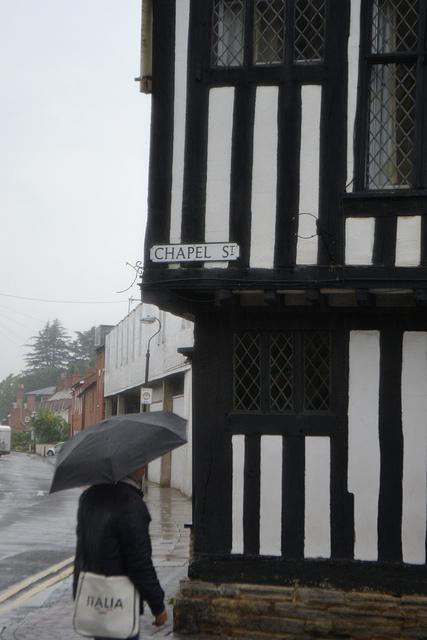hand: (147, 603, 170, 630)
